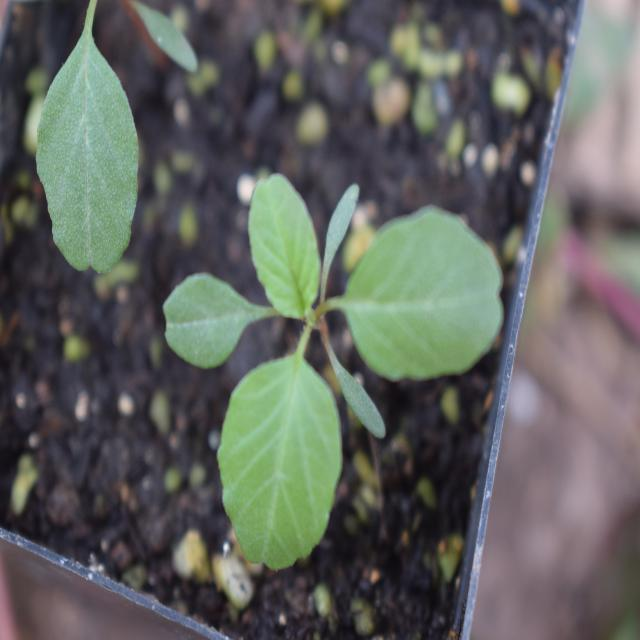pigweed: (180, 141, 490, 560)
